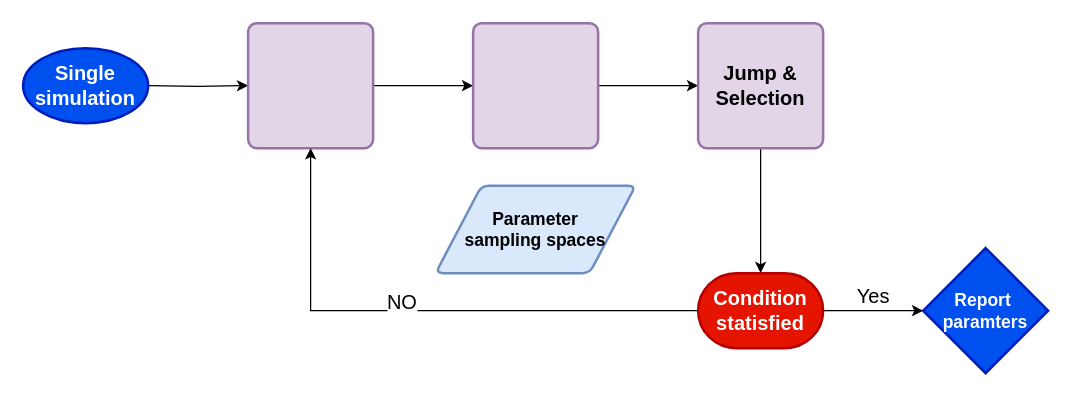
The diagram is 1070 pixels wide and 395 high, and some of its shapes have lost their labels. Each missing label, with the centre of its shape:
Cost computing (nRMSE): point (535, 85)
Simulating: point (310, 85)
